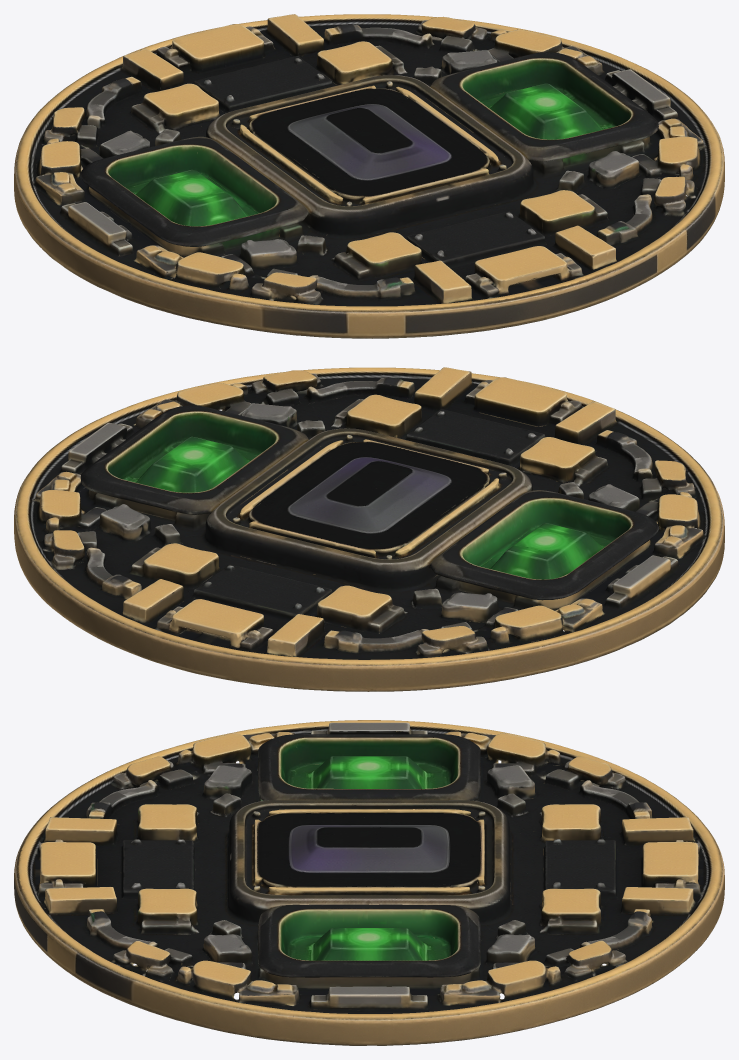
The model's file is ppg.glb.
3 renders of one model, top to bottom at view 1: azimuth 30°, elevation 25°; view 2: azimuth 150°, elevation 25°; view 3: azimuth 270°, elevation 25°, orthographic.
Size of the model in its own units: 1.9 by 0.1903 by 1.89.
1 material, 1 textured.
